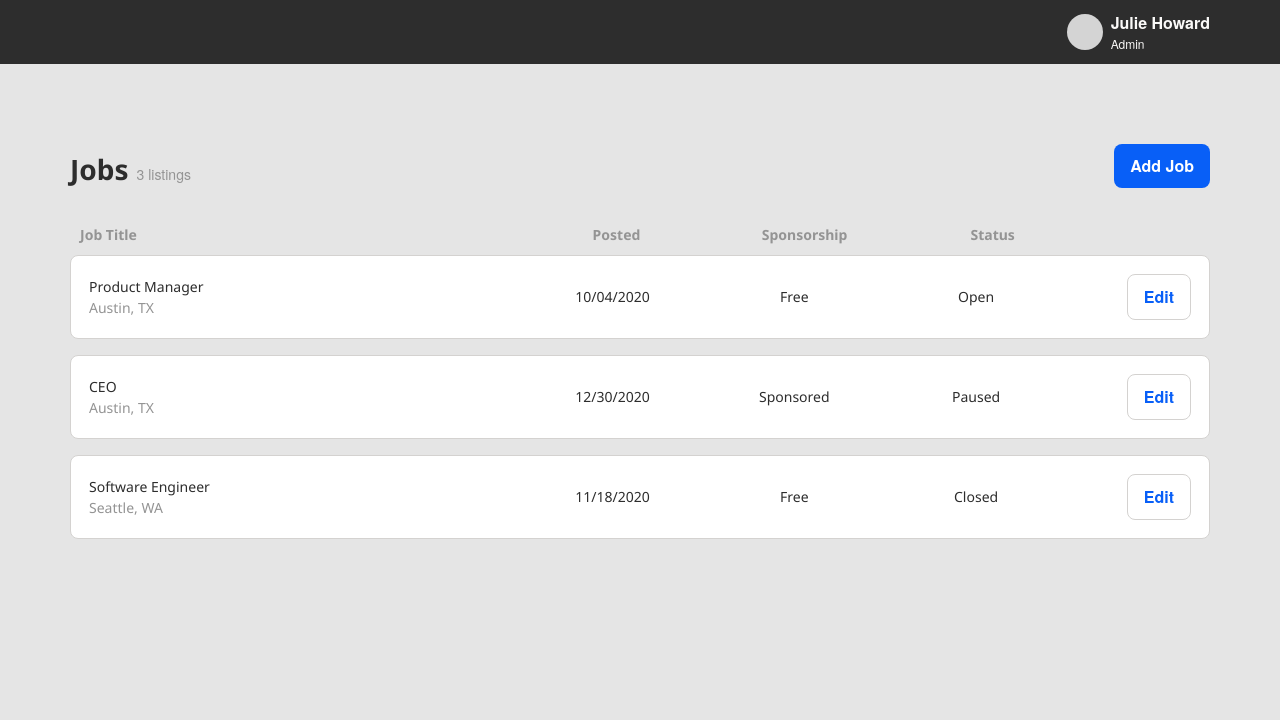
Scenario: <AddEdit /> renders heading for /add page
The image size is (1280, 720).
Click the link with test id "add-job-btn".
click(1162, 166)  # box x1=1114 y1=144 x2=1210 y2=188
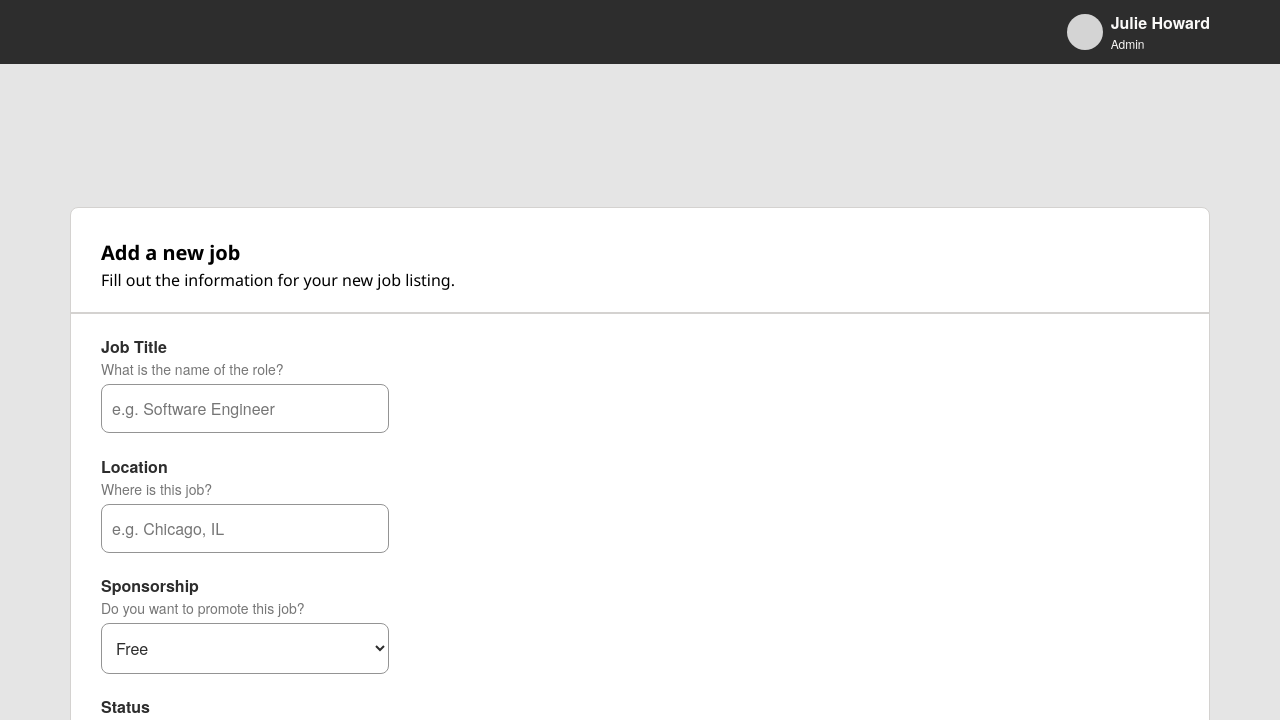
expect the heading with test id "add-edit-heading" reads "Add a new job": met, box x1=101 y1=239 x2=240 y2=266
